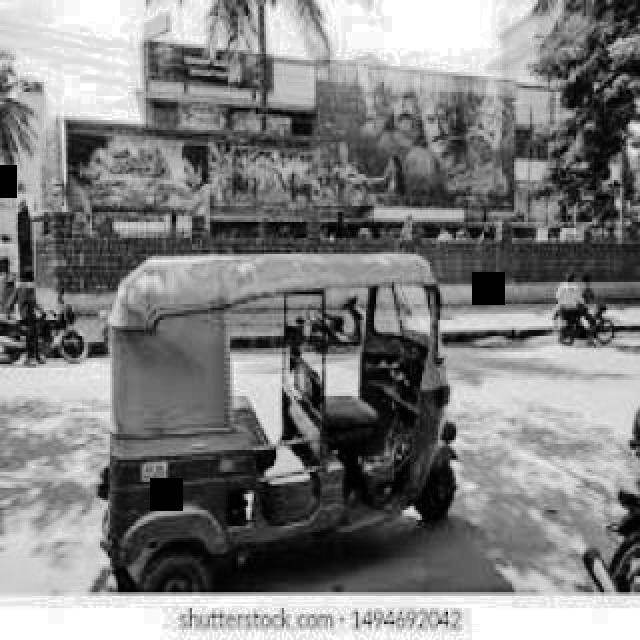Auto-Rickshaw: (92, 246, 500, 592)
